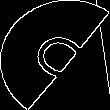O_SE: (17, 22, 93, 88)
